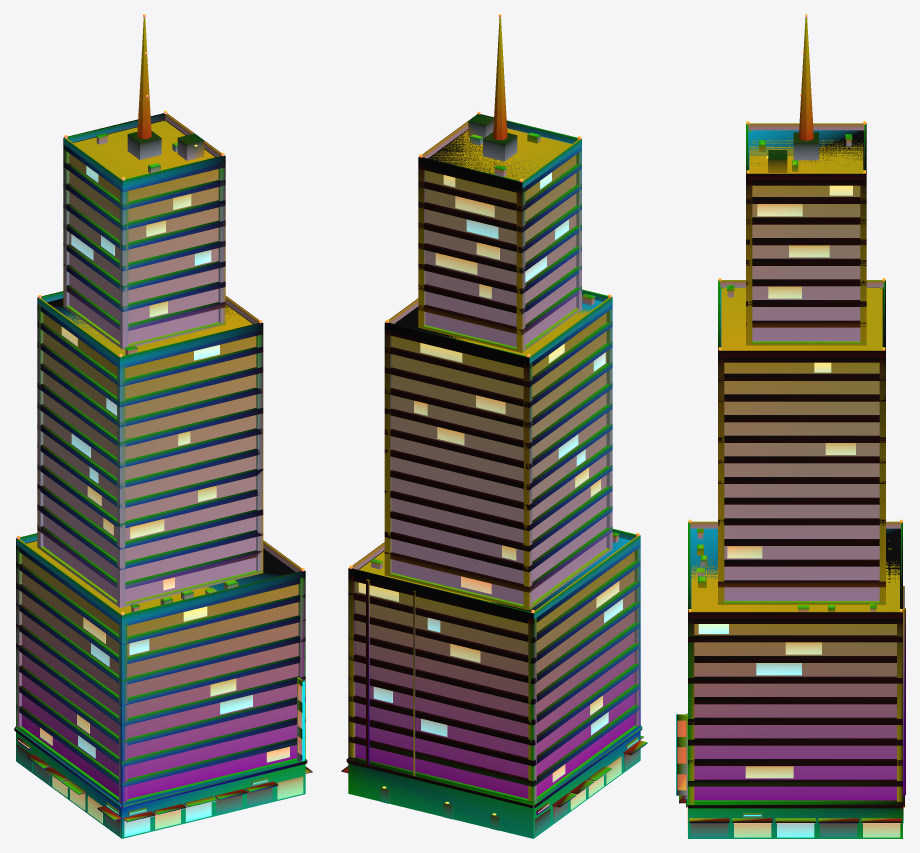
File: Tower_Spire.fbx
3 renders of one model, left to right at view 1: azimuth 30°, elevation 25°; view 2: azimuth 150°, elevation 25°; view 3: azimuth 270°, elevation 25°, orthographic.
Visible parts, largest first — view 1: Tower_Spire_LOD0; view 2: Tower_Spire_LOD0; view 3: Tower_Spire_LOD0.
Part boxes in pixels (x1=…): Tower_Spire_LOD0: x1=14, y1=14, x2=312, y2=838; Tower_Spire_LOD0: x1=341, y1=14, x2=647, y2=838; Tower_Spire_LOD0: x1=676, y1=14, x2=905, y2=838.
Size of what is drawn, in the model's own units: 36.8 by 135 by 36.31.
